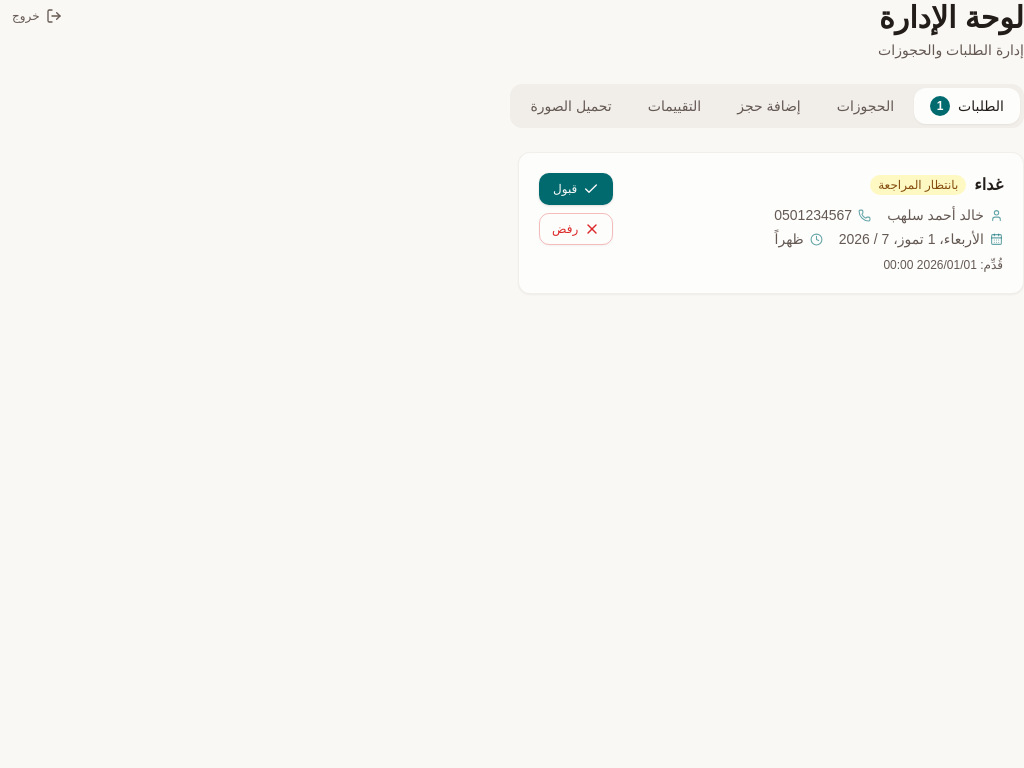
AdminPage requests › tells the admin when an action fails, and still refreshes
Click the button "رفض": (576, 229) x1=539 y1=213 x2=613 y2=245
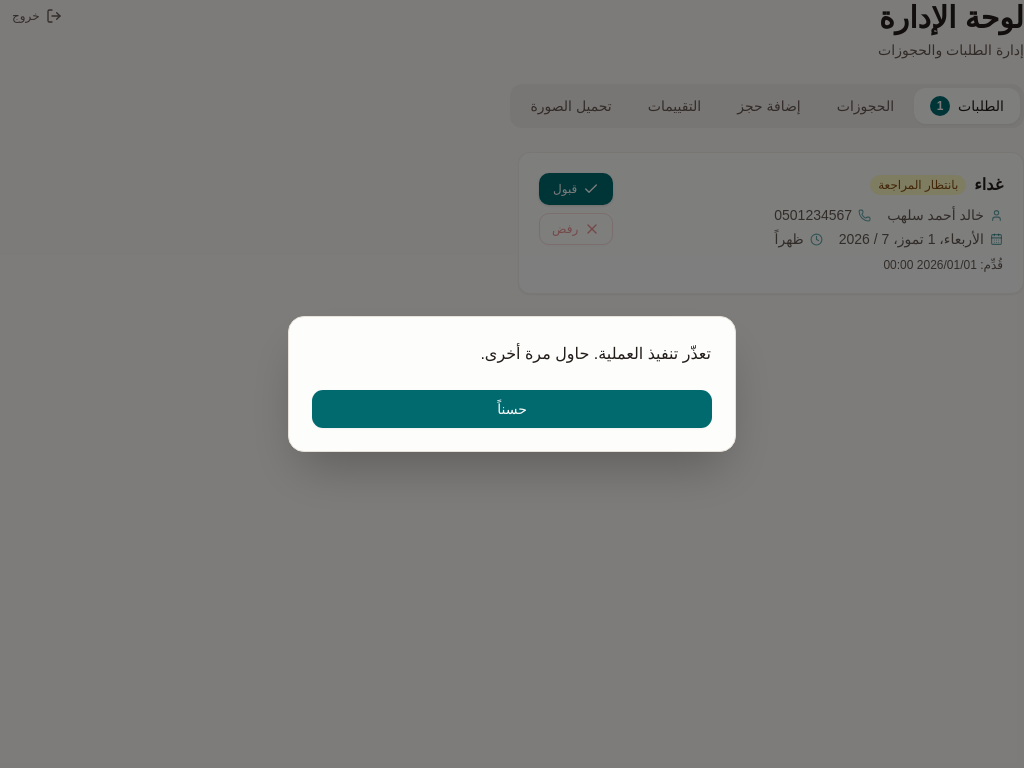
Expected: the dialog shows "تعذّر تنفيذ العملية. حاول مرة أخرى.", x1=480 y1=345 x2=711 y2=362
Click the button "حسناً": (512, 409) x1=313 y1=391 x2=711 y2=427
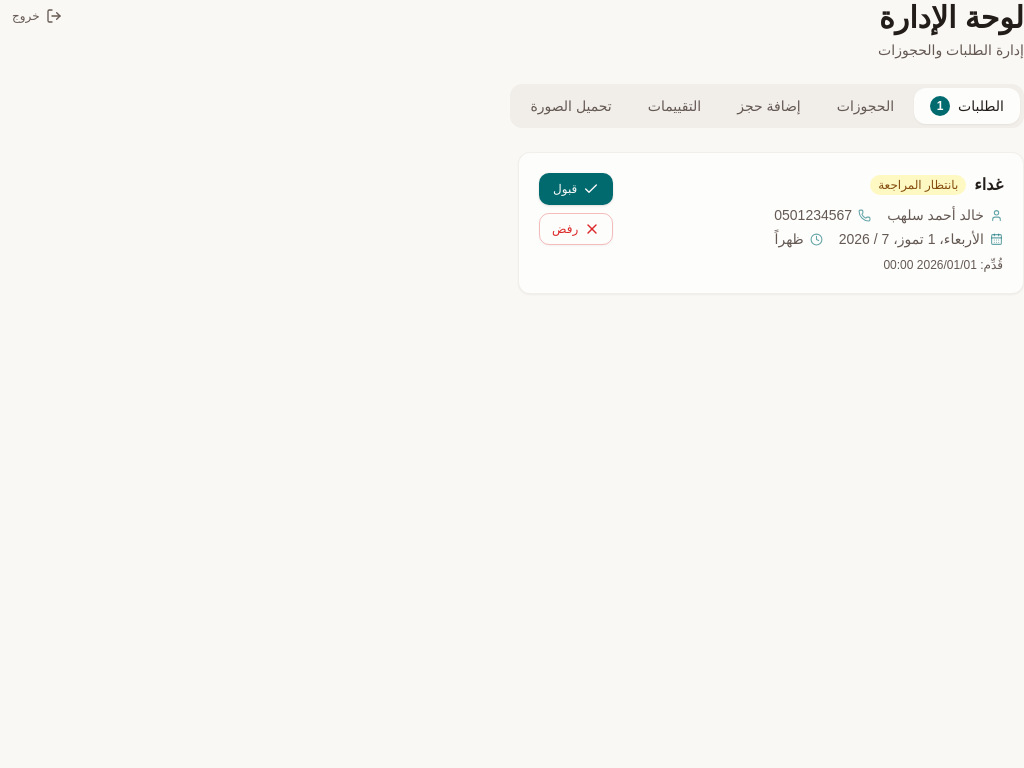
Expected: the dialog is gone
